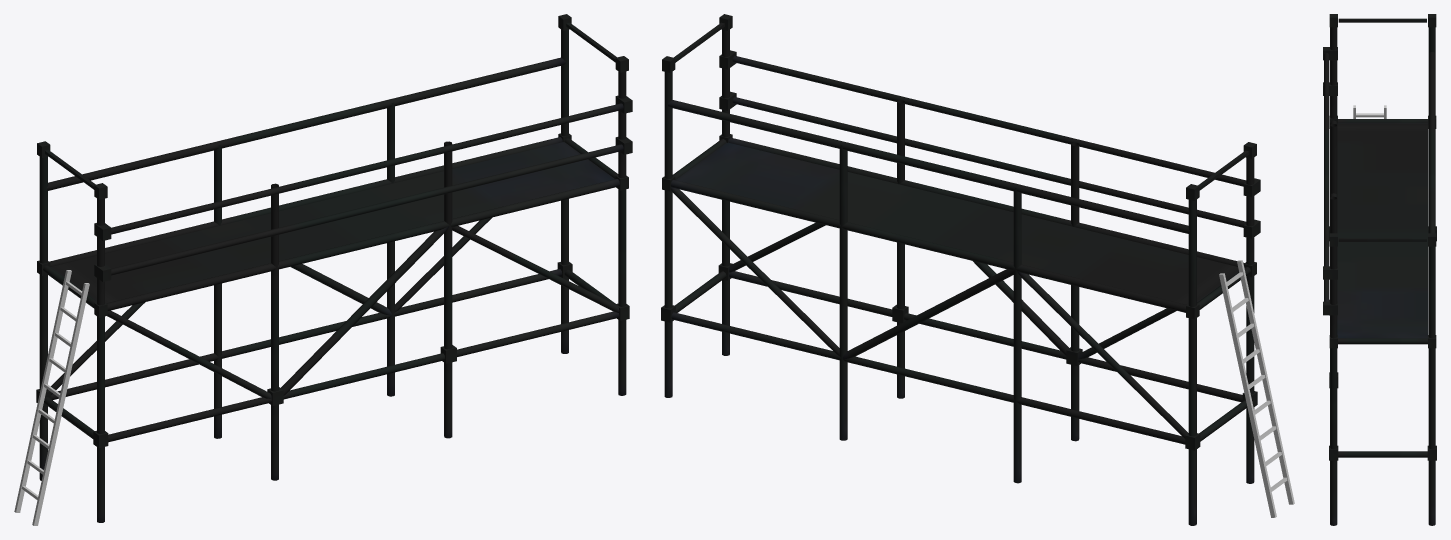
File: scaffold.obj
The picture shows the model from 3 angles, left to right: view 1: azimuth 30°, elevation 25°; view 2: azimuth 150°, elevation 25°; view 3: azimuth 270°, elevation 25°; orthographic projection. The views are drawn at different scales.
Parts seen in each view (by area): view 1: Metal_Extructure; view 2: Metal_Extructure; view 3: Metal_Extructure.
Boxes of the visible parts, x1,y1,x2,y2 form: Metal_Extructure: [14, 14, 632, 525]; Metal_Extructure: [661, 14, 1294, 525]; Metal_Extructure: [1323, 14, 1436, 525].
Size of the model in its own units: 10.06 by 5.55 by 1.98.
